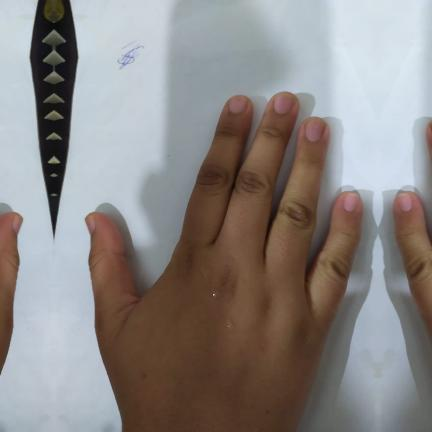Nail: (305, 118, 324, 142), (275, 94, 295, 114), (230, 95, 248, 113), (344, 193, 359, 211), (397, 193, 412, 211), (84, 216, 95, 235), (13, 216, 24, 235), (432, 123, 432, 127)
